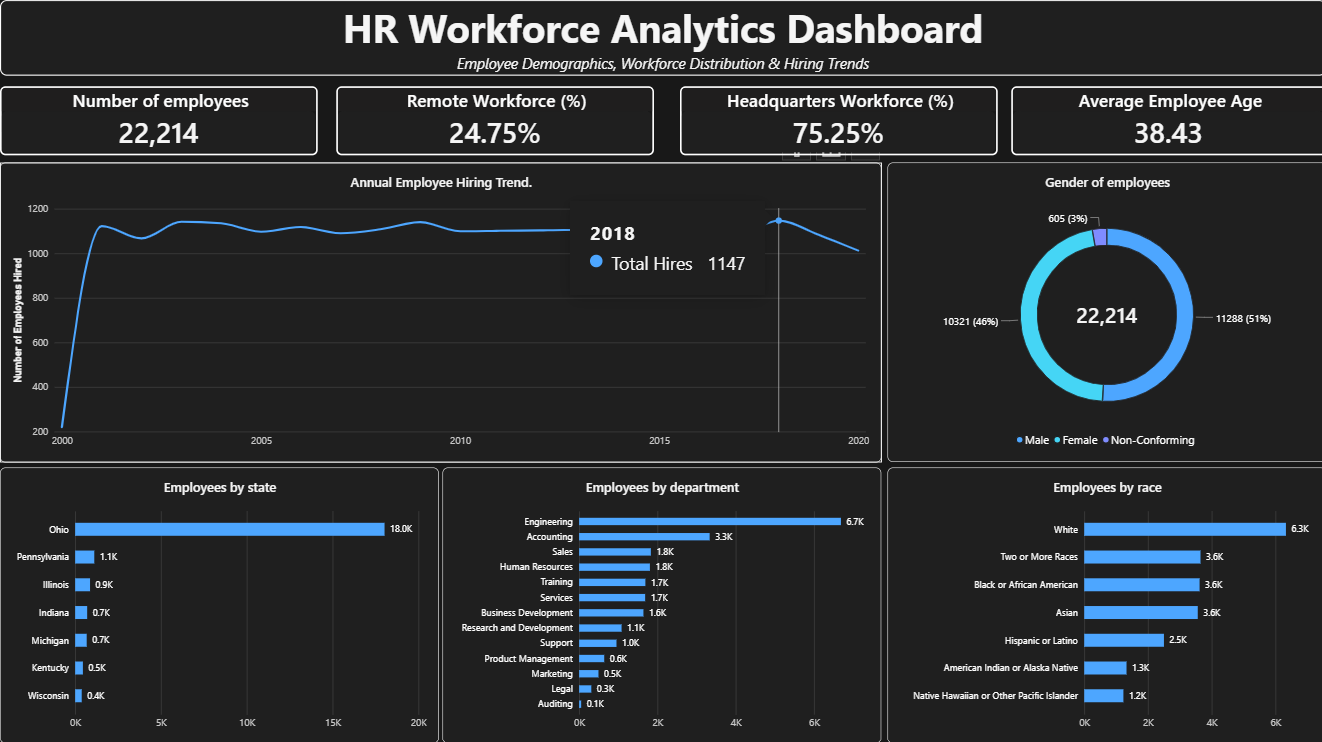

The dashboard page shown, as its layout file describes it:
{"tool":"powerbi","page":{"name":"Page 1","canvas":[1920,1080],"ordinal":0},"visuals":[{"type":"cardVisual","title":"Number of employees","fields":{"Data":["project_hr_analytics HR.Total Employees"]},"box":[0,124.5,460.3,100],"z":0},{"type":"lineChart","title":"Annual Employee Hiring Trend.","fields":{"Category":["project_hr_analytics HR.hire_date.Variation.Date Hierarchy.Year"],"Y":["project_hr_analytics HR.Total Hires"]},"box":[0,235.3,1275.8,434.3],"z":1000},{"type":"donutChart","title":"Gender of employees","fields":{"Category":["project_hr_analytics HR.gender"],"Y":["CountNonNull(project_hr_analytics HR.id)"]},"box":[1284.9,235.3,635.7,433.9],"z":2000},{"type":"barChart","title":"Employees by state","fields":{"Category":["project_hr_analytics HR.location_state"],"Y":["Count(project_hr_analytics HR.id)"]},"box":[0,677.2,635,401],"z":3000},{"type":"clusteredBarChart","title":"Employees by department","fields":{"Category":["project_hr_analytics HR.department"],"Y":["CountNonNull(project_hr_analytics HR.id)"]},"box":[641.4,677.2,635,401],"z":4000},{"type":"clusteredBarChart","title":"Employees by race","fields":{"Category":["project_hr_analytics HR.race"],"Y":["CountNonNull(project_hr_analytics HR.id)"]},"box":[1284.7,677.2,635,401],"z":5000},{"type":"cardVisual","title":"Remote Workforce (%)","fields":{"Data":["project_hr_analytics HR.Remote Employees %"]},"box":[486.7,124.5,460,100],"z":6000},{"type":"cardVisual","title":"Headquarters Workforce (%)","fields":{"Data":["project_hr_analytics HR.HQ Employees %"]},"box":[984.7,124.5,460,100],"z":7000},{"type":"cardVisual","title":"Average Employee Age","fields":{"Data":["Avg(project_hr_analytics HR.Age)"]},"box":[1463.9,124.5,456.5,100],"z":8000},{"type":"textbox","box":[0,0,1920.4,109.4],"z":9000}]}

Visuals, with their boxes in screenshot pixels (x1, y1, x2, y2), scaled from the page's 1920x1080 canvas onto the 1322x742 screenshot:
"Number of employees" cardVisual: box=[0, 86, 317, 154]
"Annual Employee Hiring Trend." lineChart: box=[0, 162, 878, 460]
"Gender of employees" donutChart: box=[885, 162, 1321, 460]
"Employees by state" barChart: box=[0, 465, 437, 741]
"Employees by department" clusteredBarChart: box=[442, 465, 879, 741]
"Employees by race" clusteredBarChart: box=[885, 465, 1321, 741]
"Remote Workforce (%)" cardVisual: box=[335, 86, 652, 154]
"Headquarters Workforce (%)" cardVisual: box=[678, 86, 995, 154]
"Average Employee Age" cardVisual: box=[1008, 86, 1321, 154]
textbox: box=[0, 0, 1321, 75]
